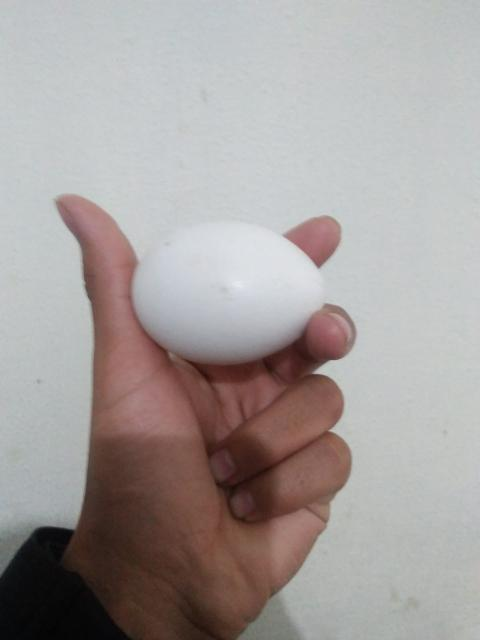Sano: (133, 218, 325, 364)
